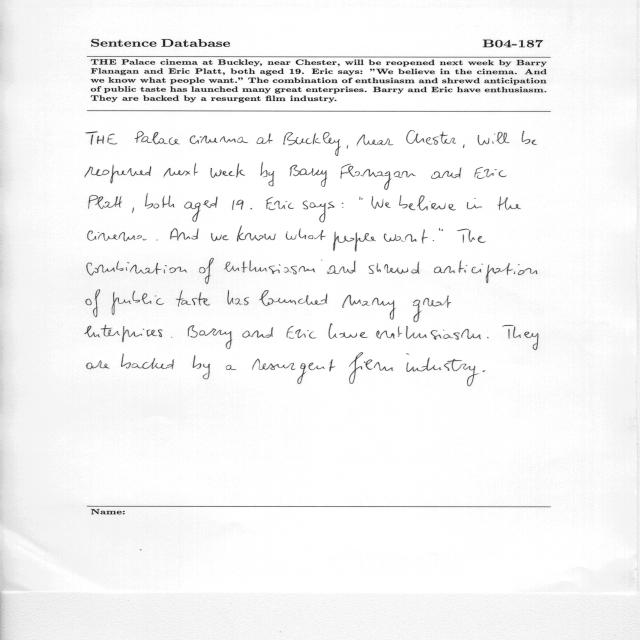word: (406, 354, 479, 387), (434, 261, 538, 284), (252, 359, 336, 384), (340, 164, 416, 190), (224, 260, 322, 275), (377, 326, 482, 340), (349, 352, 393, 384), (87, 261, 187, 275), (283, 132, 341, 156), (343, 295, 396, 320), (85, 325, 162, 342), (111, 291, 164, 315), (85, 165, 151, 184), (259, 290, 327, 306), (188, 325, 233, 349), (413, 296, 451, 323), (503, 325, 539, 350), (184, 196, 218, 222), (333, 232, 376, 252), (399, 195, 456, 210), (290, 165, 327, 187), (121, 354, 174, 369), (406, 130, 456, 145), (303, 201, 335, 223), (134, 131, 180, 145), (329, 323, 368, 339), (384, 230, 428, 244), (369, 262, 420, 274), (88, 231, 147, 241), (237, 226, 276, 241), (176, 290, 210, 307), (211, 163, 246, 178), (163, 163, 198, 177), (286, 228, 326, 240), (88, 195, 122, 209), (190, 136, 248, 144), (145, 193, 174, 209), (86, 131, 118, 145), (357, 134, 393, 146), (478, 132, 510, 145), (193, 355, 210, 379), (457, 229, 486, 243), (474, 167, 507, 179), (199, 258, 214, 284), (86, 290, 100, 317), (327, 261, 356, 274), (287, 326, 316, 339), (266, 197, 294, 210), (170, 229, 199, 241), (260, 162, 274, 186), (497, 196, 521, 210), (431, 168, 461, 179), (227, 291, 249, 306), (243, 327, 273, 338), (372, 196, 391, 209), (521, 131, 537, 145), (86, 361, 110, 370), (257, 133, 273, 144), (467, 198, 481, 209), (211, 233, 229, 241), (232, 200, 244, 210), (226, 365, 237, 370), (132, 207, 134, 213), (359, 197, 363, 200), (439, 228, 443, 231), (342, 203, 344, 208), (463, 144, 465, 148), (483, 370, 486, 372), (347, 145, 348, 149), (250, 208, 252, 209), (156, 240, 158, 241), (487, 337, 489, 338), (433, 240, 434, 241), (171, 337, 172, 337)
